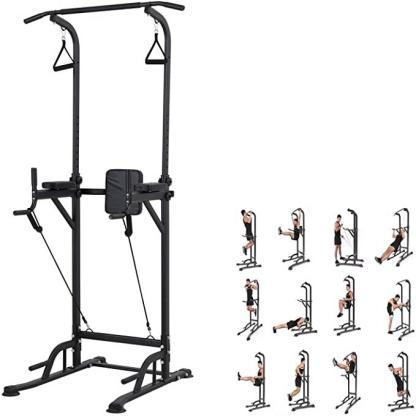chinning dipping: (6, 2, 193, 412)
